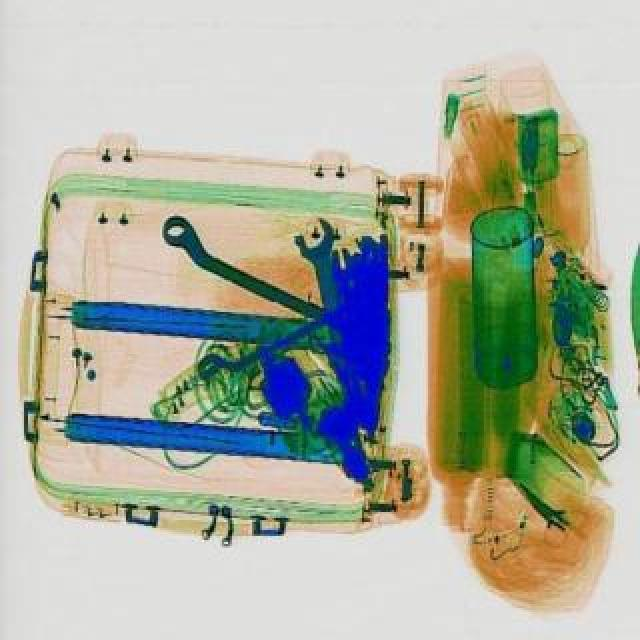scissors: (150, 208, 342, 330), (190, 292, 330, 388), (290, 214, 360, 374)
